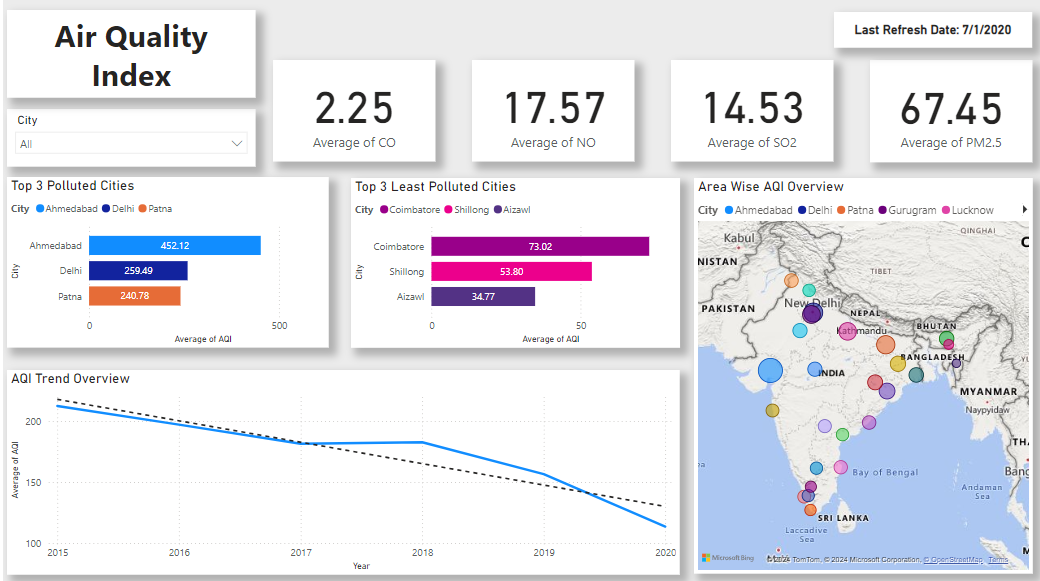

What the dashboard file says about the page in this screenshot:
{"tool":"powerbi","page":{"name":"Page 1","canvas":[1280,720],"ordinal":0},"visuals":[{"type":"lineChart","title":"AQI Trend Overview","fields":{"Category":["city_day.Date.Variation.Date Hierarchy.Year","city_day.Date.Variation.Date Hierarchy.Quarter","city_day.Date.Variation.Date Hierarchy.Month","city_day.Date.Variation.Date Hierarchy.Day"],"Y":["Avg(city_day.AQI)"]},"box":[5,455.2,828.1,252],"z":0},{"type":"slicer","fields":{"Values":["city_day.City"]},"box":[5,134.4,305.7,70.6],"z":1000},{"type":"barChart","title":"Top 3 Polluted Cities","fields":{"Category":["city_day.City"],"Y":["Avg(city_day.AQI)"],"Series":["city_day.City"]},"box":[5,218.4,396.4,210],"z":2000},{"type":"barChart","title":"Top 3 Least Polluted Cities","fields":{"Category":["city_day.City"],"Y":["Avg(city_day.AQI)"],"Series":["city_day.City"]},"box":[428,218.8,404.6,209.2],"z":3000},{"type":"card","fields":{"Values":["Avg(city_day.CO)"]},"box":[332.4,73.9,200,125.2],"z":4000},{"type":"card","fields":{"Values":["Avg(city_day.NO)"]},"box":[577.2,73.9,200,125.2],"z":5000},{"type":"card","fields":{"Values":["Avg(city_day.SO2)"]},"box":[821.9,73.9,200,125.2],"z":6000},{"type":"card","fields":{"Values":["Avg(city_day.PM2.5)"]},"box":[1066.7,73.9,199.9,126],"z":7000},{"type":"map","title":"Area Wise AQI Overview","fields":{"Category":["city_day.City"],"Size":["Avg(city_day.AQI)"],"Series":["city_day.City"]},"box":[850.6,218.8,417,487.2],"z":8000},{"type":"textbox","box":[5,11.8,305.7,107.5],"z":9000},{"type":"card","fields":{"Values":["city_day.MAX Date"]},"box":[1023,15.1,243.6,43.7],"z":10000}]}

Visuals, with their boxes in screenshot pixels (x1, y1, x2, y2), scaled from the page's 1280x720 canvas onto the 1040x581 screenshot:
"AQI Trend Overview" lineChart: [left=4, top=367, right=677, bottom=571]
slicer - city_day.City: [left=4, top=108, right=252, bottom=165]
"Top 3 Polluted Cities" barChart: [left=4, top=176, right=326, bottom=346]
"Top 3 Least Polluted Cities" barChart: [left=348, top=177, right=676, bottom=345]
card - Avg(city_day.CO): [left=270, top=60, right=433, bottom=161]
card - Avg(city_day.NO): [left=469, top=60, right=631, bottom=161]
card - Avg(city_day.SO2): [left=668, top=60, right=830, bottom=161]
card - Avg(city_day.PM2.5): [left=867, top=60, right=1029, bottom=161]
"Area Wise AQI Overview" map: [left=691, top=177, right=1030, bottom=570]
textbox: [left=4, top=10, right=252, bottom=96]
card - city_day.MAX Date: [left=831, top=12, right=1029, bottom=47]
